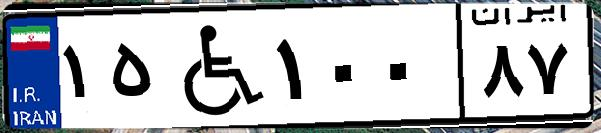0: (385, 28, 445, 110), (330, 28, 385, 110)
1: (270, 28, 330, 110), (57, 26, 110, 100)
5: (110, 28, 158, 98)
7: (525, 38, 570, 115)
8: (475, 38, 525, 113)
ژ (معلولین و جانبازان): (158, 12, 270, 120)
